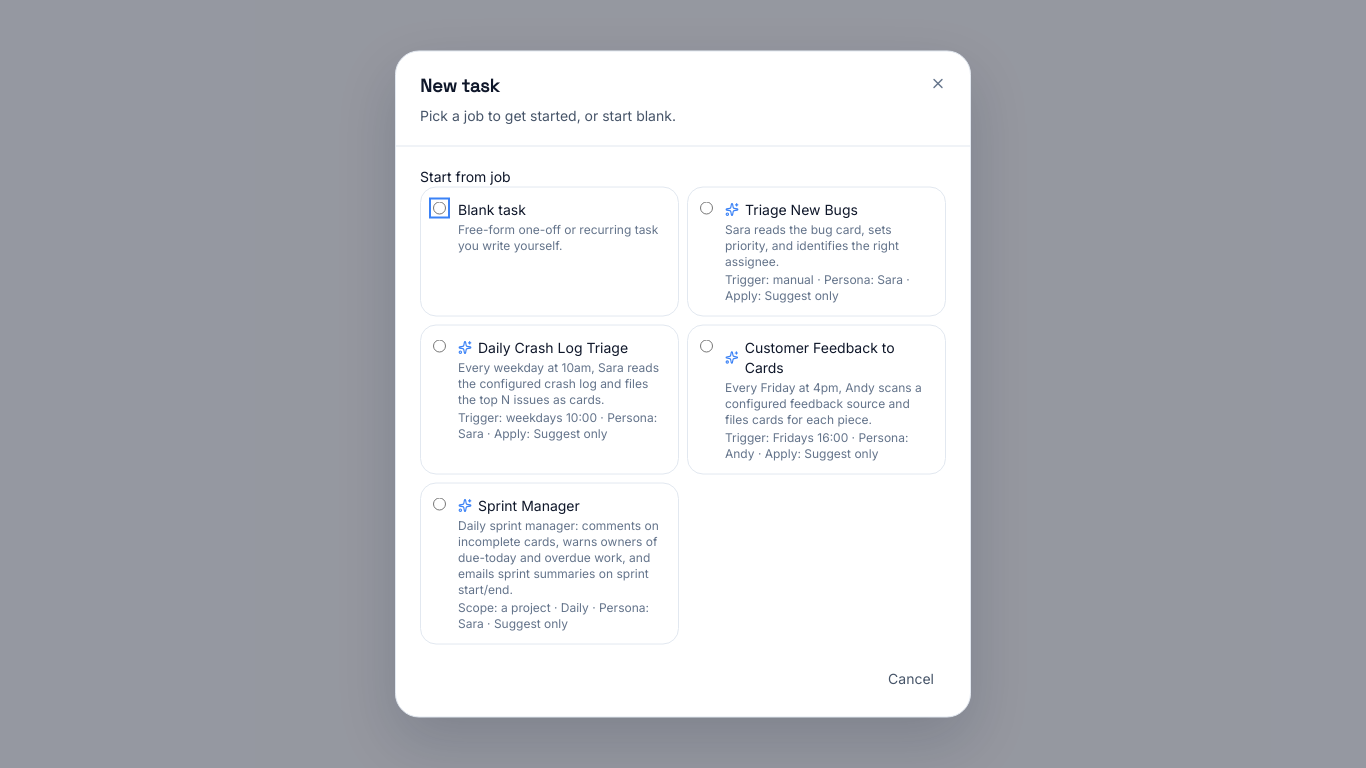
NewTaskDialog › blocks submit when advanced cron is empty
Click the radio button with test id "job-picker-blank": (440, 208) left=433, top=202, right=446, bottom=214
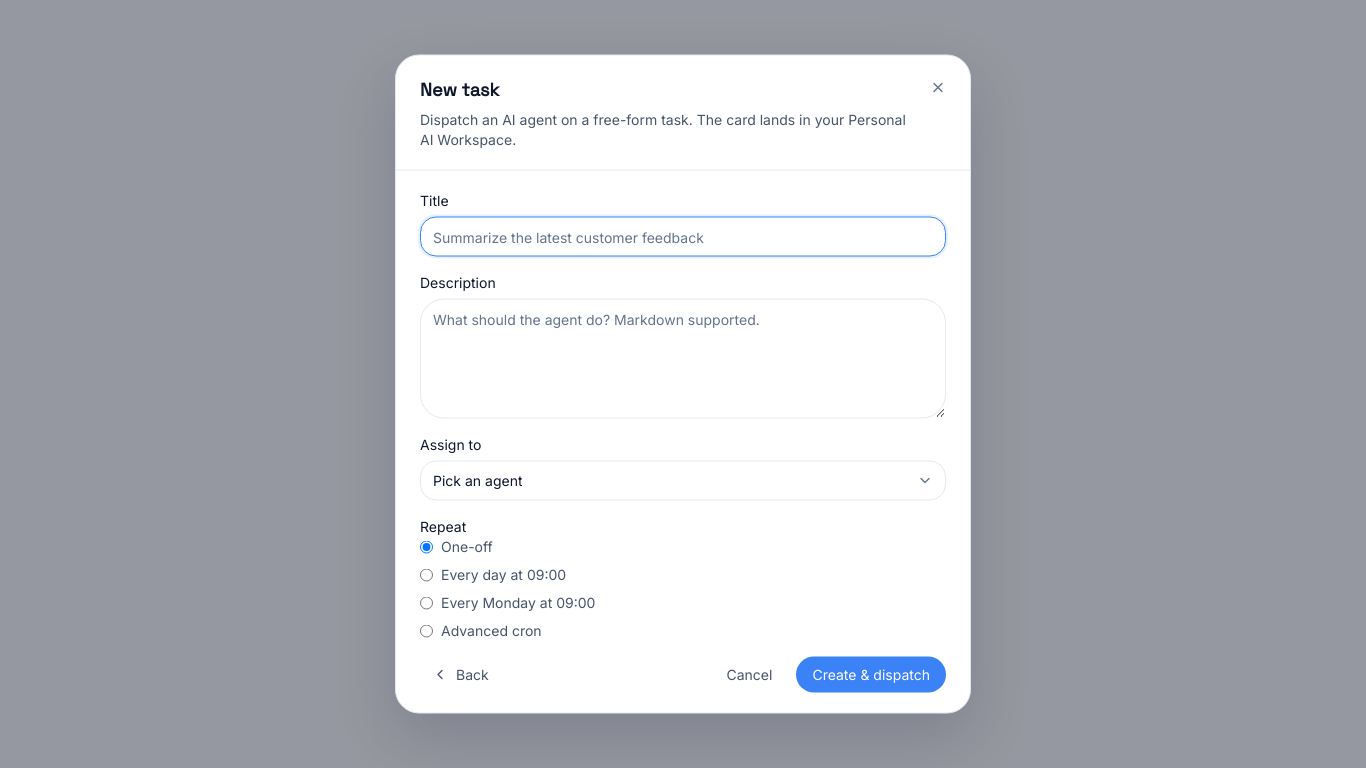
In the field labelled "Title": (683, 236) left=420, top=216, right=946, bottom=256, type "Custom cron task"
Click the button with test id "persona-picker-trigger": (478, 480) left=420, top=460, right=946, bottom=500
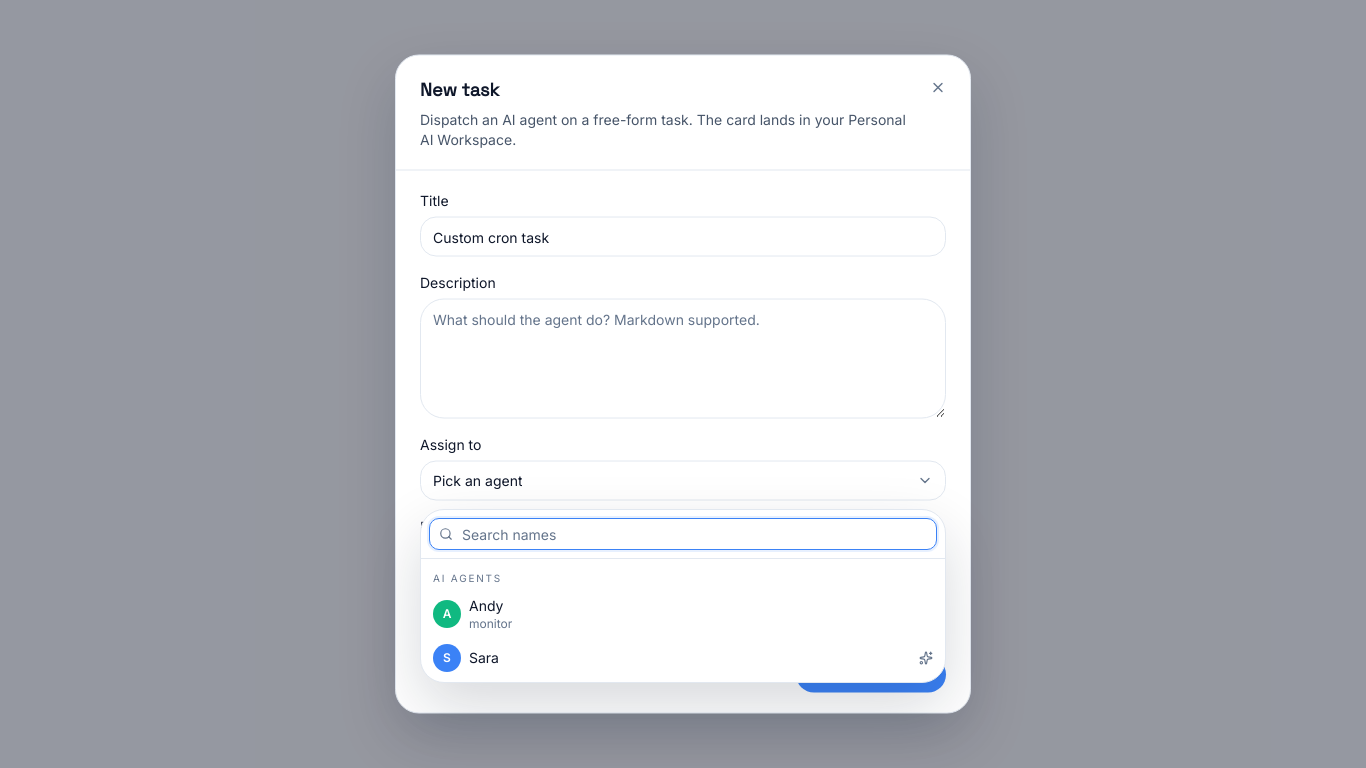
Click the button with test id "persona-picker-option-sara": (447, 658) left=421, top=638, right=945, bottom=678
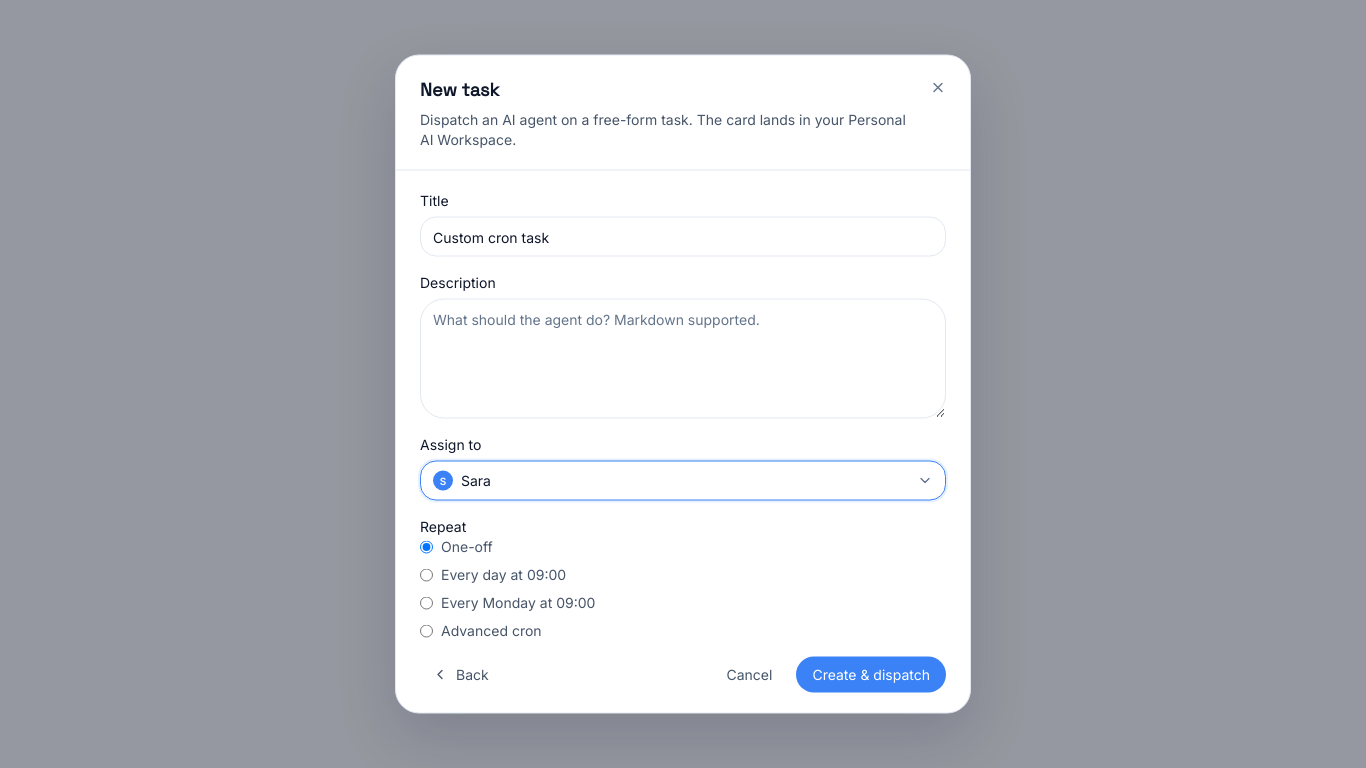
Click the radio button labelled "Advanced cron": (426, 630) left=420, top=624, right=433, bottom=637
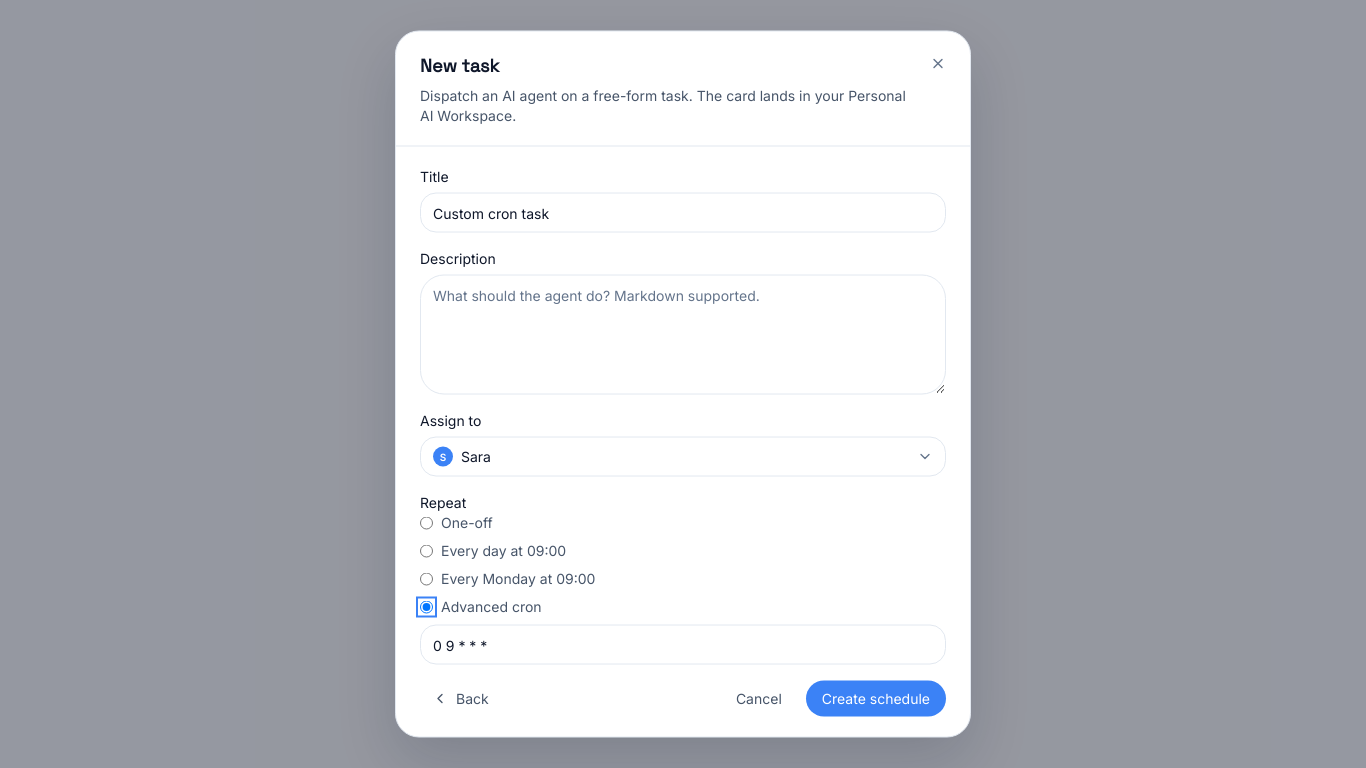
Clear the field named "Cron expression": (683, 644) left=420, top=624, right=946, bottom=664
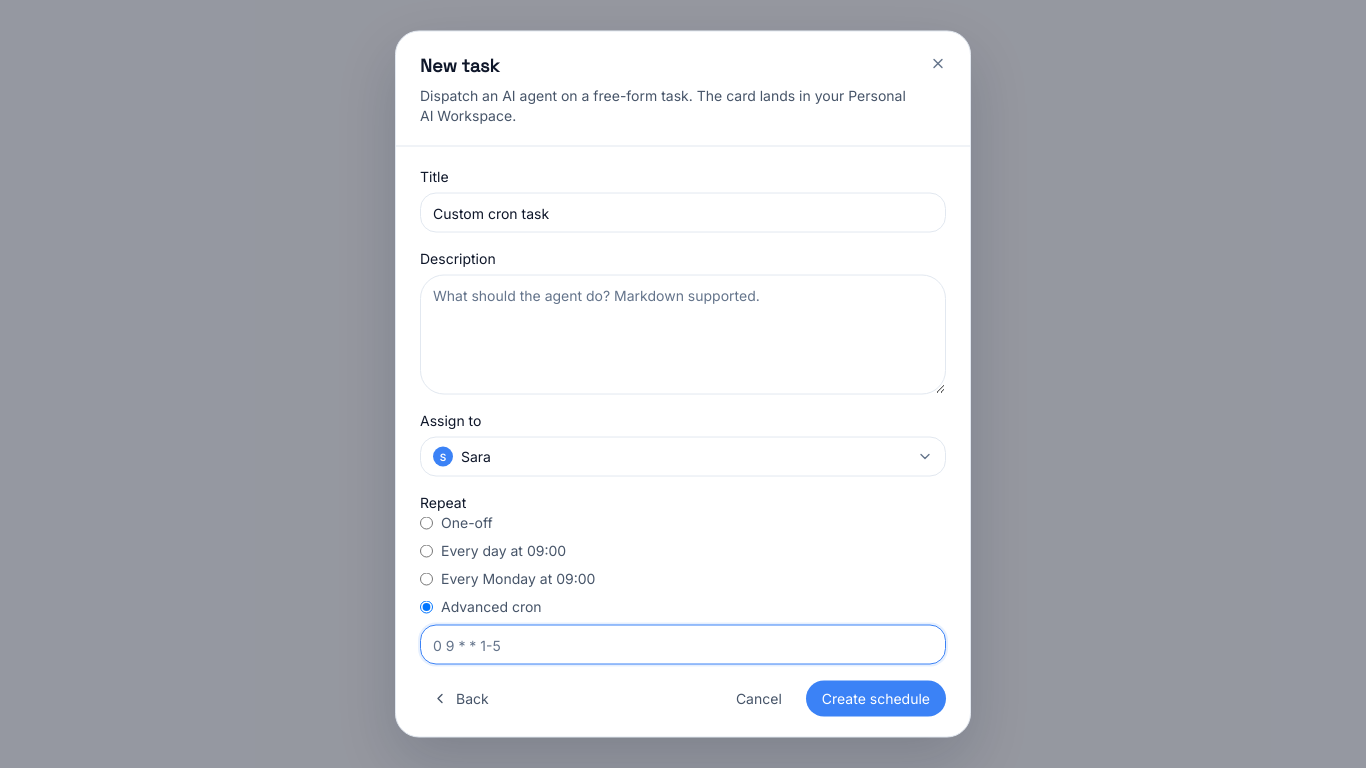
Click the button "Create schedule": (876, 698) left=806, top=680, right=946, bottom=716
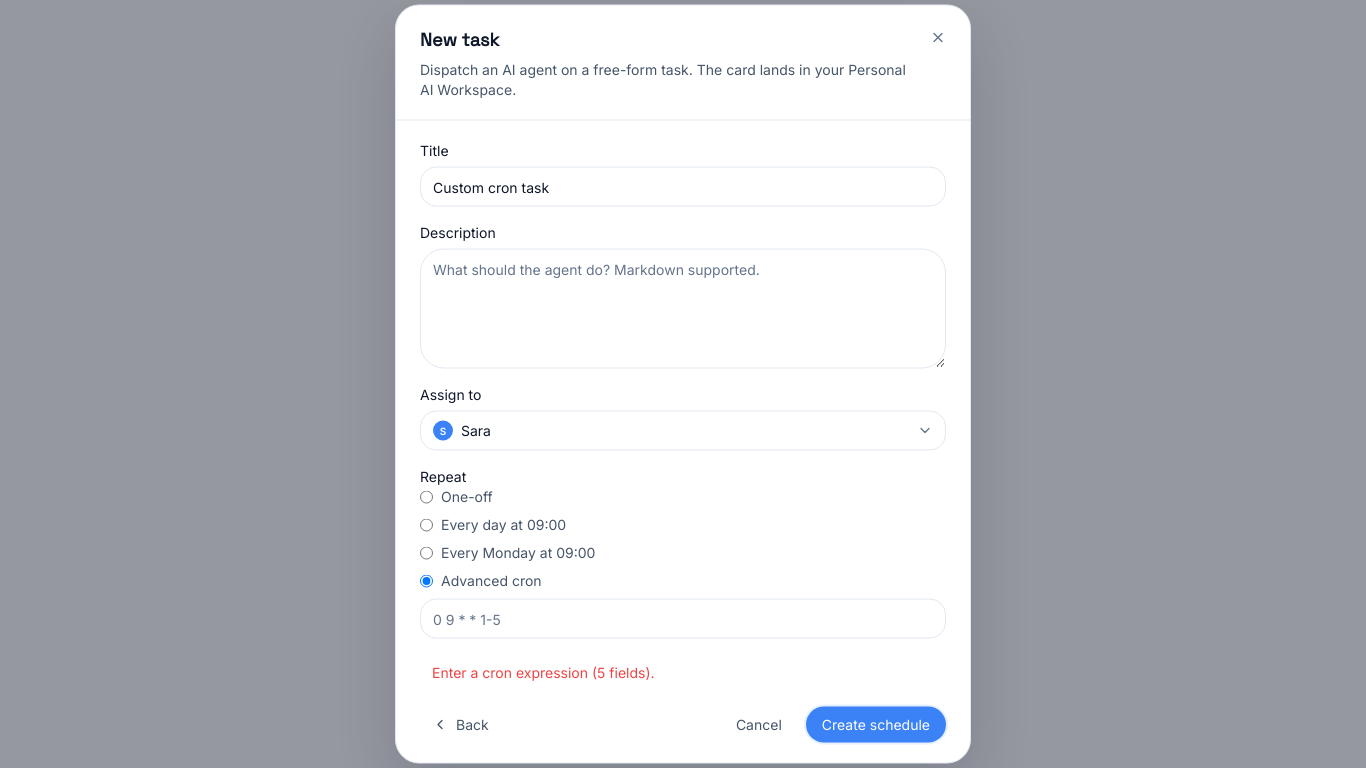
Expected: the text "Enter a cron expression (5 fields)." is shown, left=432, top=664, right=655, bottom=680
